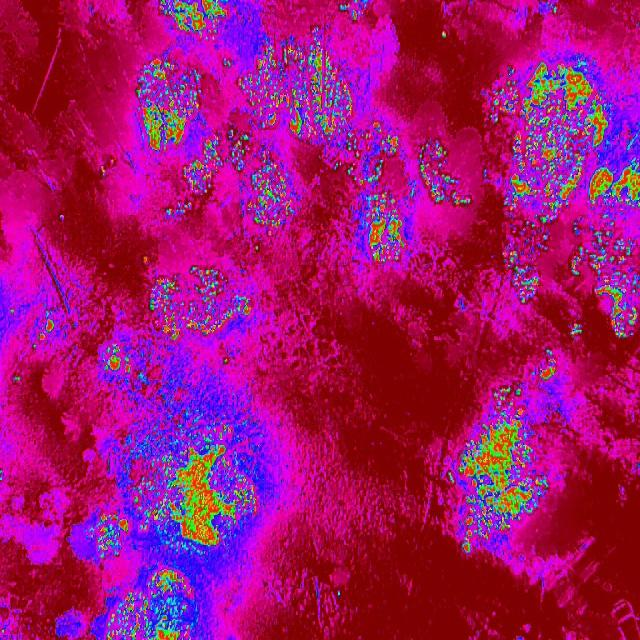fire: (478, 60, 640, 216), (129, 398, 260, 556), (446, 383, 548, 558), (243, 24, 362, 144), (570, 219, 640, 340), (148, 264, 252, 340), (104, 561, 202, 640), (133, 51, 204, 156), (496, 218, 554, 302), (250, 152, 296, 229), (420, 138, 470, 208), (362, 188, 407, 264), (156, 1, 232, 41), (94, 338, 150, 388), (87, 510, 130, 560), (332, 145, 382, 185), (183, 157, 220, 193), (30, 310, 56, 350), (531, 344, 558, 380), (337, 0, 376, 24), (226, 126, 243, 172), (166, 200, 192, 219), (382, 133, 400, 157), (204, 134, 220, 158), (407, 178, 417, 204), (457, 294, 468, 314), (221, 56, 230, 74), (8, 305, 18, 319), (372, 123, 382, 136), (99, 164, 108, 178), (439, 28, 447, 42), (138, 256, 148, 266), (88, 4, 96, 16), (57, 213, 66, 223), (334, 590, 343, 600), (0, 466, 5, 484), (221, 356, 230, 366), (552, 3, 558, 17), (13, 374, 23, 381), (0, 627, 7, 635), (253, 244, 260, 251), (10, 309, 16, 316), (14, 377, 22, 382)
